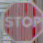Stop: (3, 4, 41, 42)
